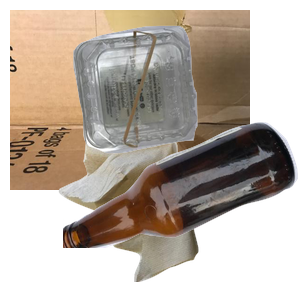cardboard: (10, 10, 250, 190)
glass: (63, 120, 300, 300)
plastic: (71, 23, 300, 169)
trash: (56, 120, 247, 300)
